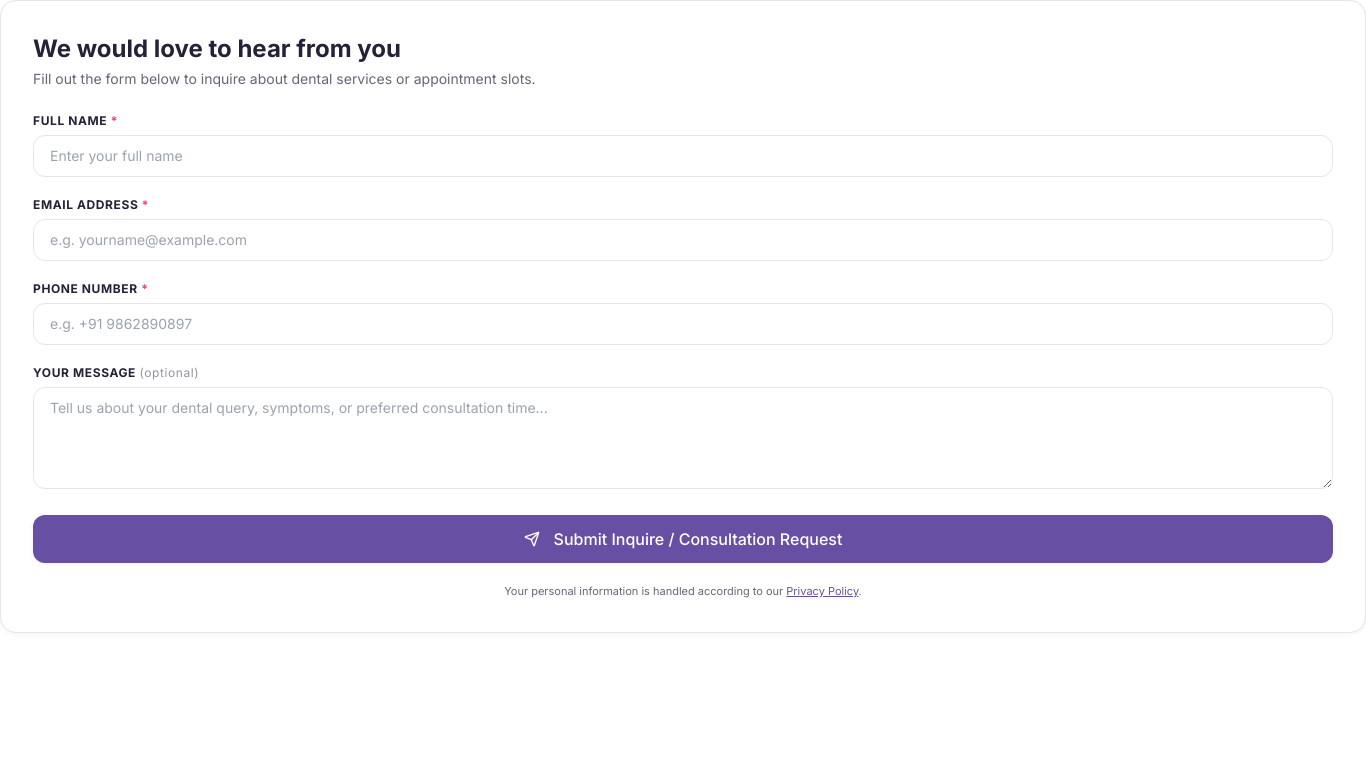
Test: ContactForm Component › validates required fields on empty submit
This screenshot has width=1366, height=768.
Click the button "Submit Inquire / Consultation Request". click: coordinates (683, 539)
box: [33,515,1333,563]
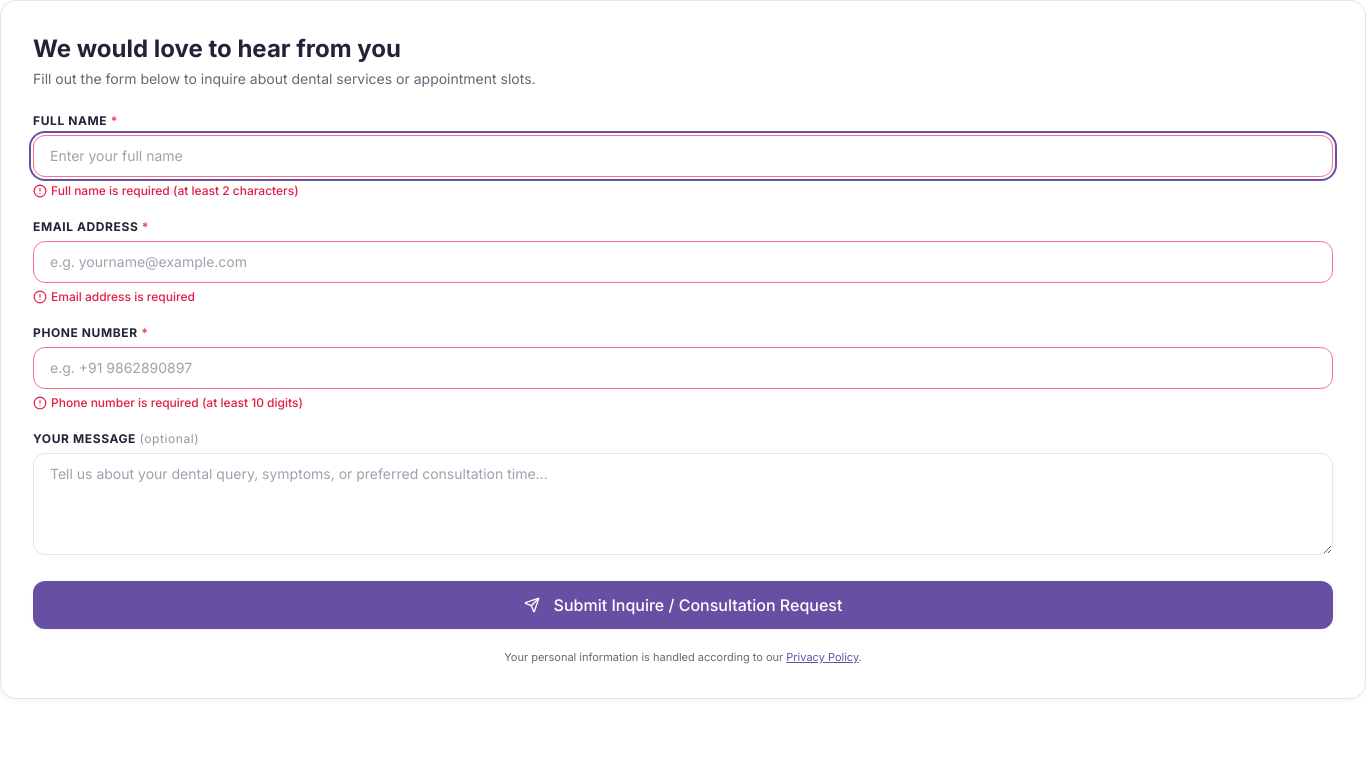
Expected: the text "Full name is required (at least 2 characters)" is shown, [33,183,299,198]
Expected: the text "Email address is required" is shown, [33,289,195,304]
Expected: the text "Phone number is required (at least 10 digits)" is shown, [33,395,303,410]
